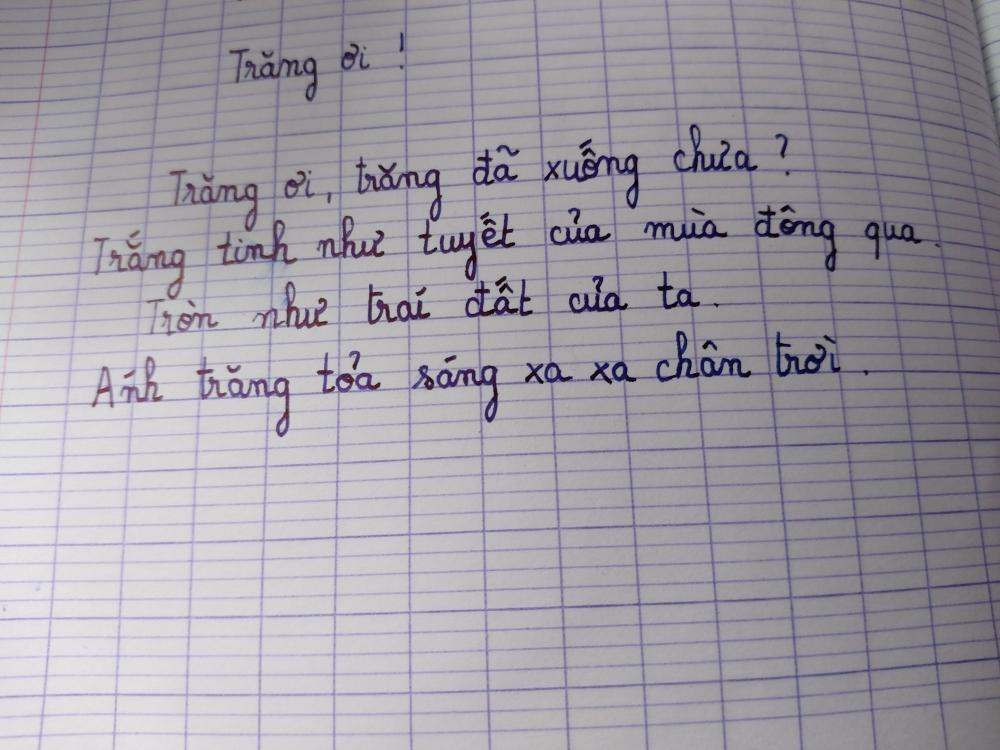text: (86, 324, 877, 442), (89, 201, 943, 302), (168, 117, 794, 234), (138, 267, 721, 344), (225, 26, 410, 109)
